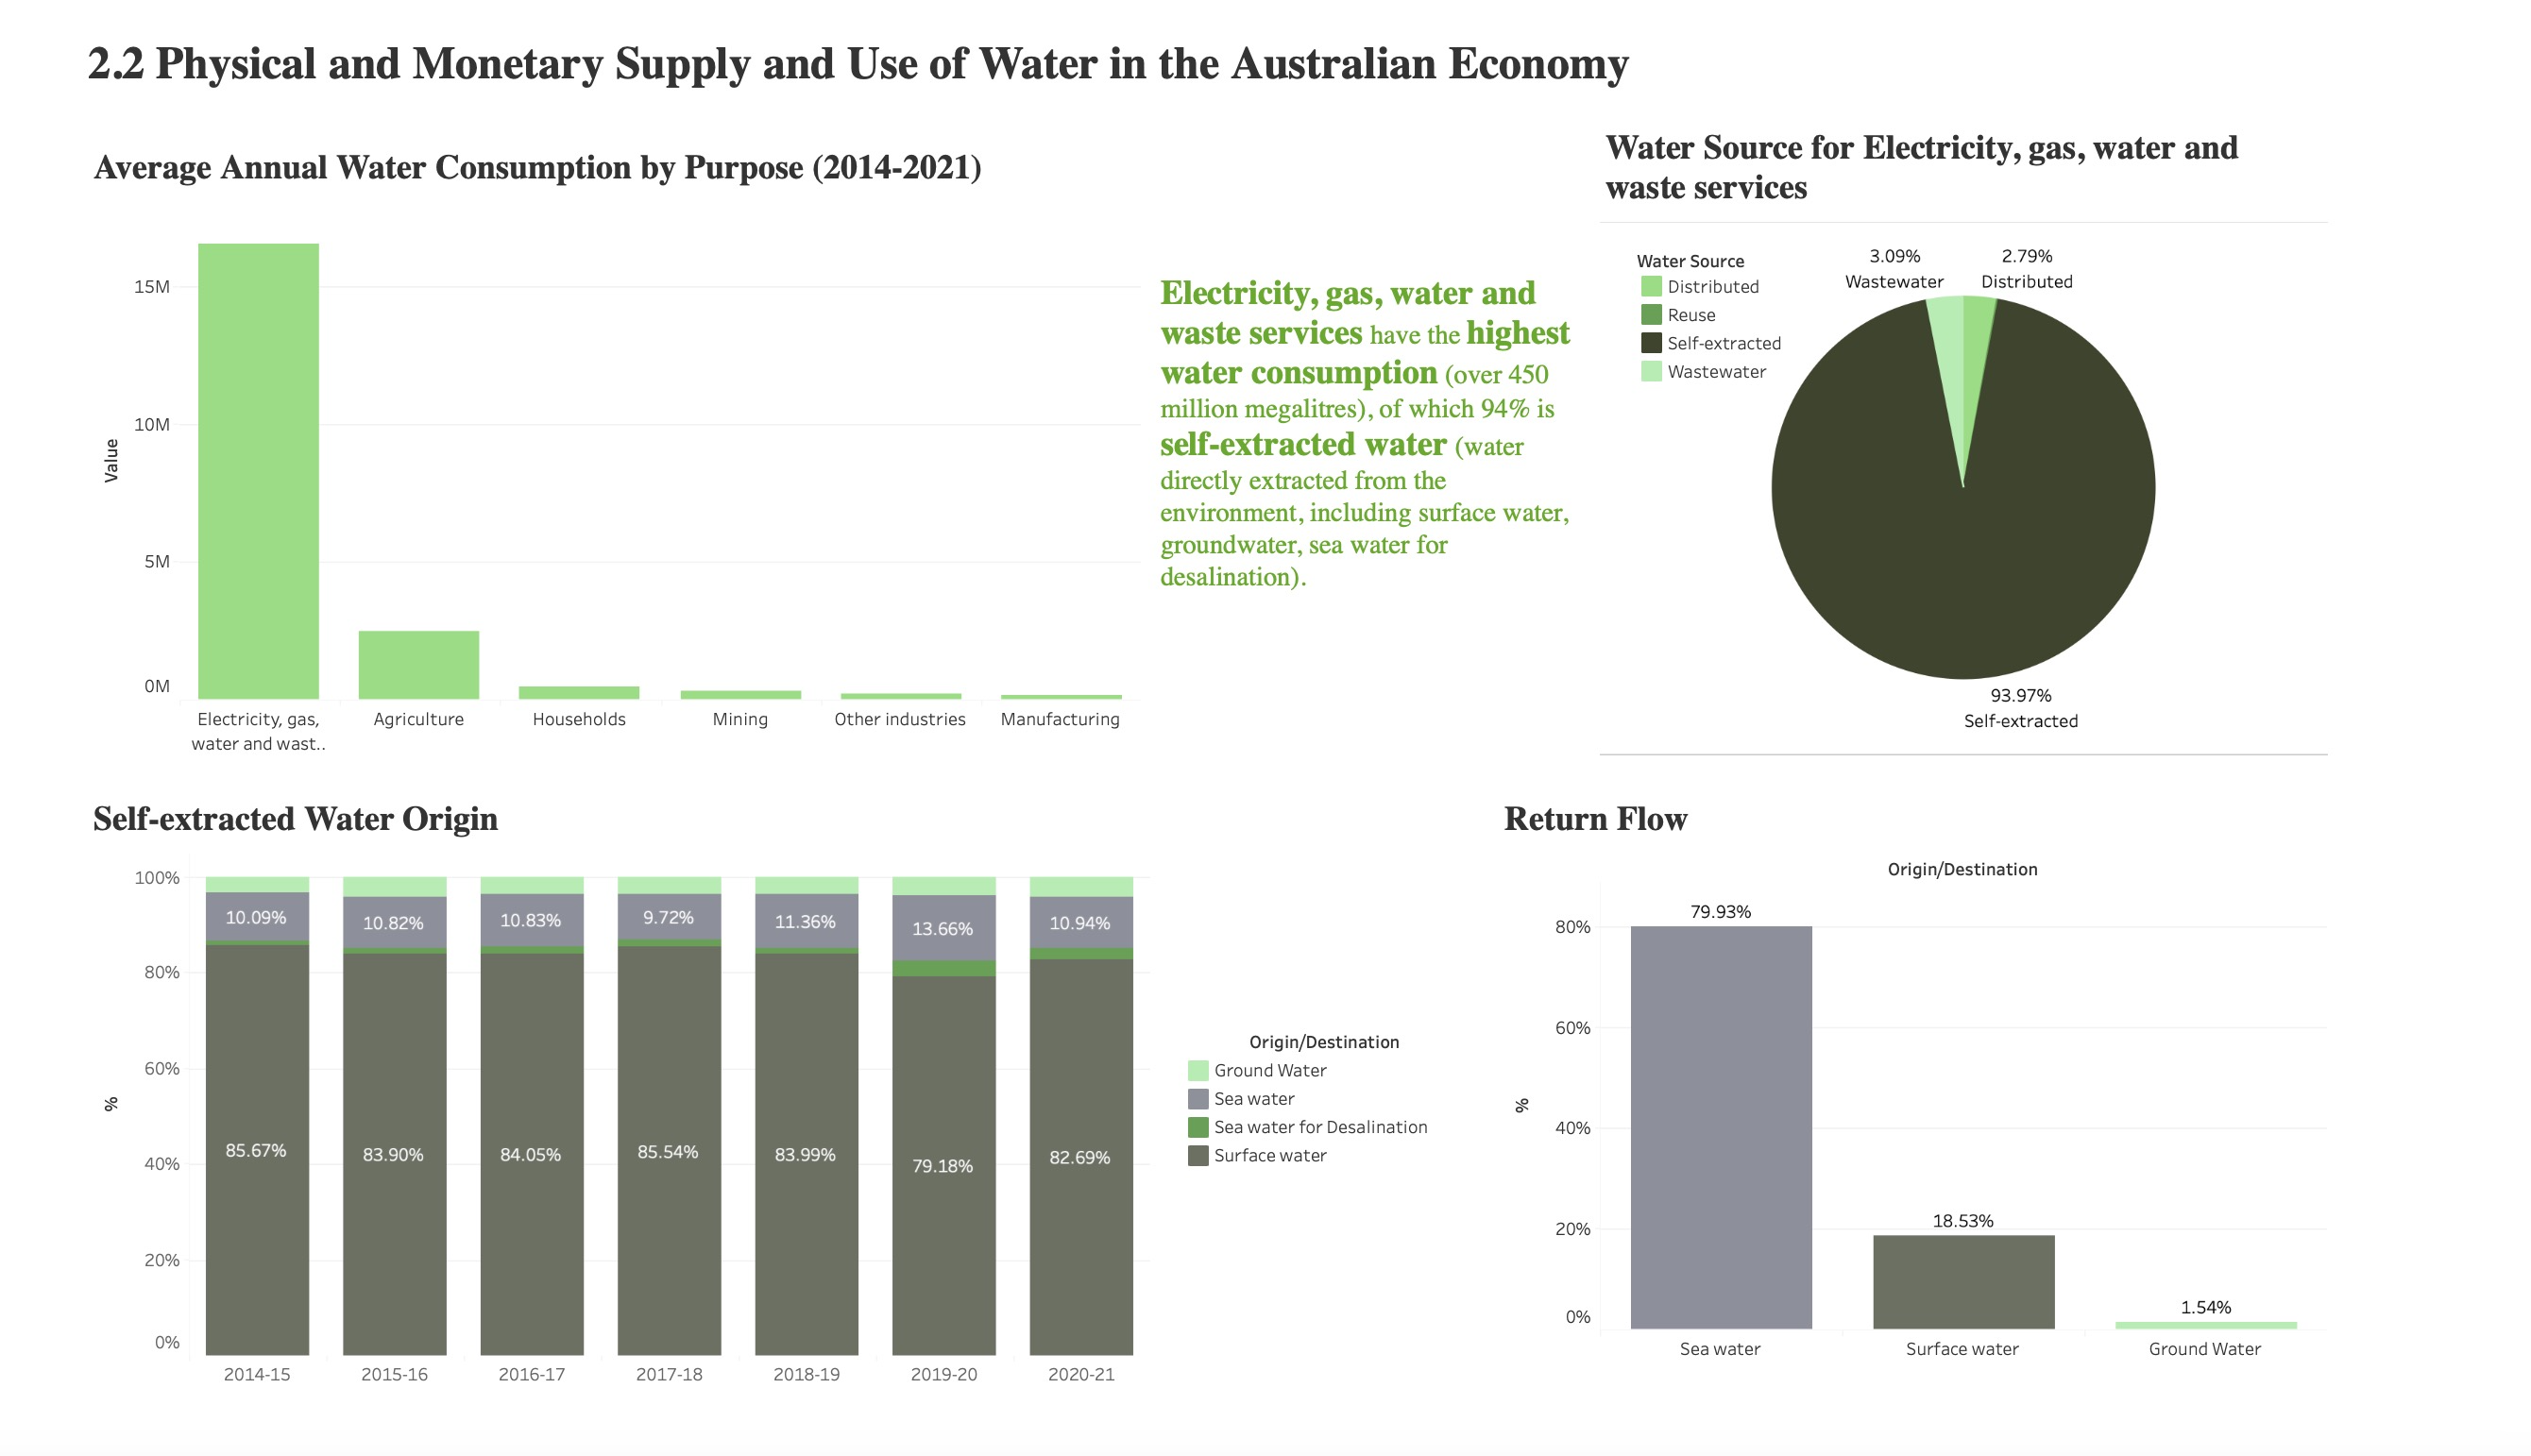

The dashboard page shown, as its layout file describes it:
{"tool":"tableau","page":{"name":"Water Dashboard","canvas":[1000,800],"ordinal":3},"visuals":[{"type":"worksheet","title":"Water Consumption by Purpose","mark":"Automatic","rows":["Value"],"cols":["Purpose"],"box":[8,8,492,316]},{"type":"worksheet","title":"Water Source","mark":"Pie","rows":["Purpose"],"box":[500,8,492,316]},{"type":"blank","box":[8,324,984,59]},{"type":"legend","title":"Self-extracted Water Origin","param":"[federated.1frrdzq0mft4ys1co1wf80cqgoiu].[none:Origin/Destination:nk]","box":[260,346,689,59]},{"type":"worksheet","title":"Self-extracted Water Origin","mark":"Automatic","cols":["Time (Water Origin)"],"box":[8,383,492,409]},{"type":"worksheet","title":"Return Flow","mark":"Automatic","rows":["Value (Water Origin)"],"cols":["Origin/Destination"],"box":[500,383,492,409]}]}

Visuals, with their boxes on the page's 1000x800 design canvas (x1, y1, x2, y2). These are canvas units, not pixel positions in the 2531x1456 screenshot, which may show the page scaled, cropped or inside an application window:
"Water Consumption by Purpose" worksheet: [left=8, top=8, right=500, bottom=324]
"Water Source" worksheet (Pie marks): [left=500, top=8, right=992, bottom=324]
blank: [left=8, top=324, right=992, bottom=383]
"Self-extracted Water Origin" legend: [left=260, top=346, right=949, bottom=405]
"Self-extracted Water Origin" worksheet: [left=8, top=383, right=500, bottom=792]
"Return Flow" worksheet: [left=500, top=383, right=992, bottom=792]
